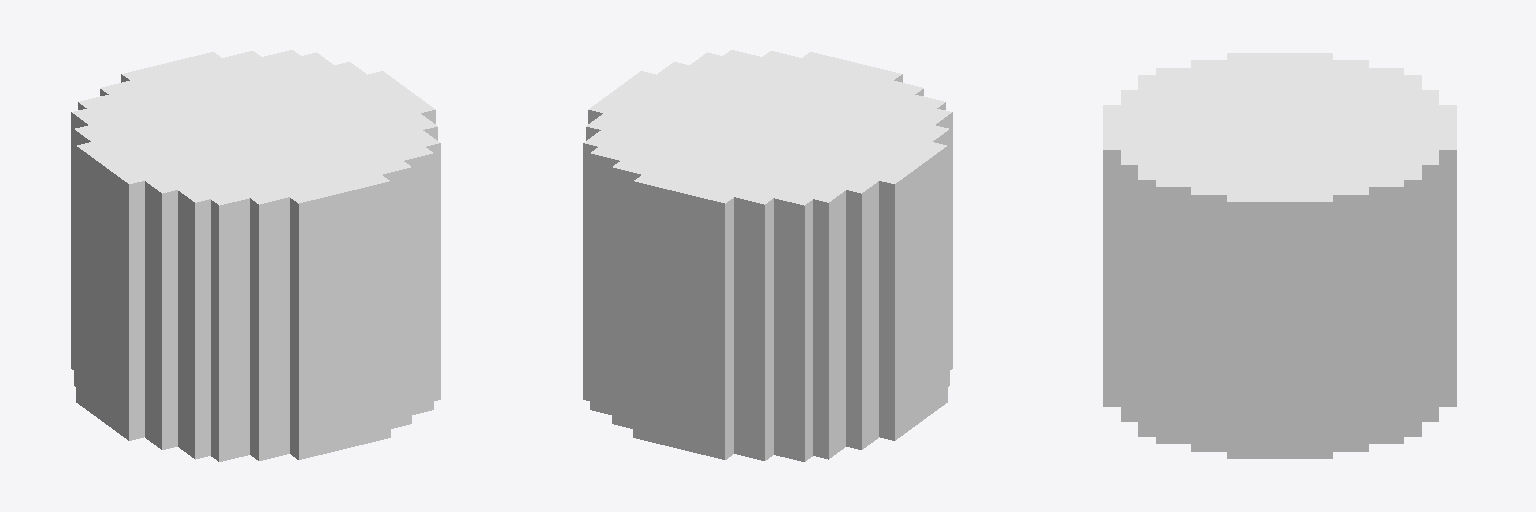
Rendered from snowman-3-hat1.obj.
The picture shows the model from 3 angles: view 1: azimuth 30°, elevation 25°; view 2: azimuth 150°, elevation 25°; view 3: azimuth 270°, elevation 25°; orthographic projection.
Parts seen in each view (by area): view 1: hat1; view 2: hat1; view 3: hat1.
Part boxes in pixels (left/top/right/bottom): hat1: left=71, top=50, right=440, bottom=461; hat1: left=583, top=50, right=952, bottom=461; hat1: left=1103, top=53, right=1456, bottom=458.
Bounding box in the file's own units: 2 × 1.6 × 2.